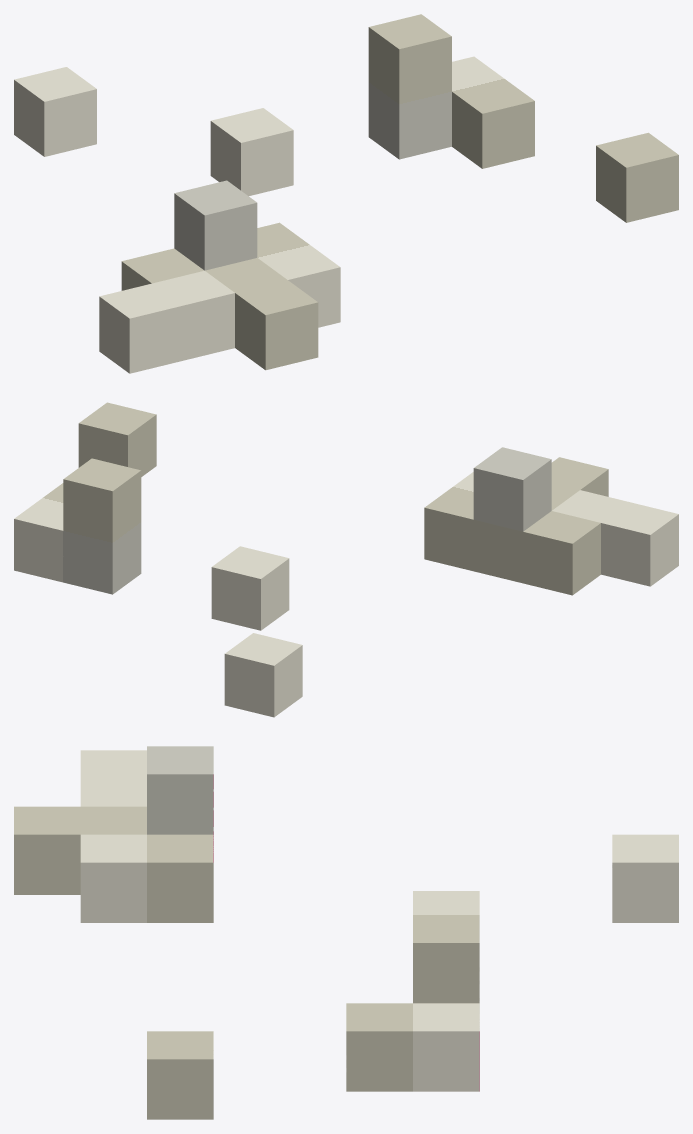
The model's file is Tissue2.obj.
3 views of the same model, one above another, from view 1: azimuth 30°, elevation 25°; view 2: azimuth 150°, elevation 25°; view 3: azimuth 270°, elevation 25° (orthographic). The views are drawn at different scales.
Visible parts, largest first — view 1: Tissue2; view 2: Tissue2; view 3: Tissue2.
Part boxes in pixels (bbox=[...]): Tissue2: bbox=[14, 14, 678, 373]; Tissue2: bbox=[14, 402, 678, 717]; Tissue2: bbox=[14, 746, 678, 1119].
Size of the model in its own units: 1.1 by 0.2 by 1.
Materials: 1 (1 with a texture image).
